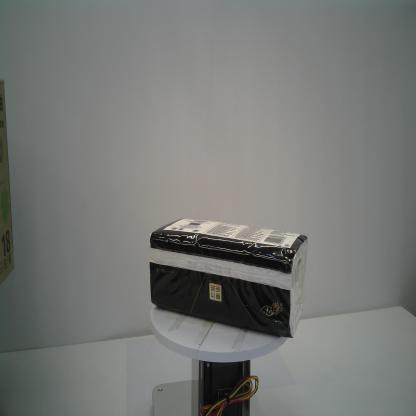Tissue: (149, 218, 308, 340)
